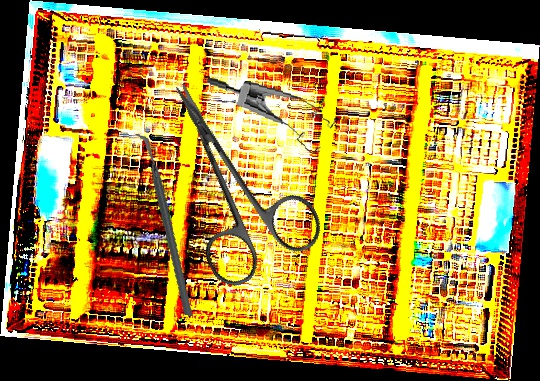Chopper: (104, 133, 224, 317)
Iris Scissors: (130, 55, 330, 294)
Speculum: (199, 76, 340, 156)
